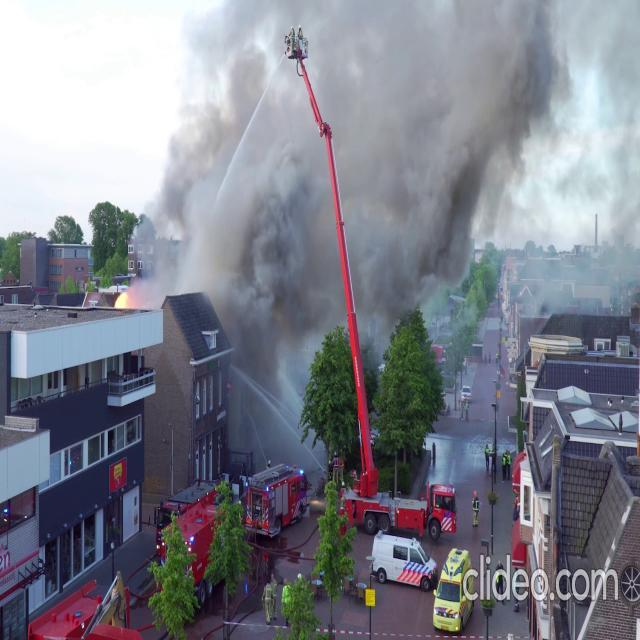Fire: (112, 284, 132, 312)
Smoke: (138, 0, 580, 350)
